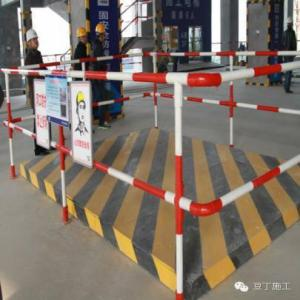white: (26, 29, 41, 51), (286, 17, 295, 29)
yellow: (76, 28, 90, 46), (95, 25, 107, 43)
